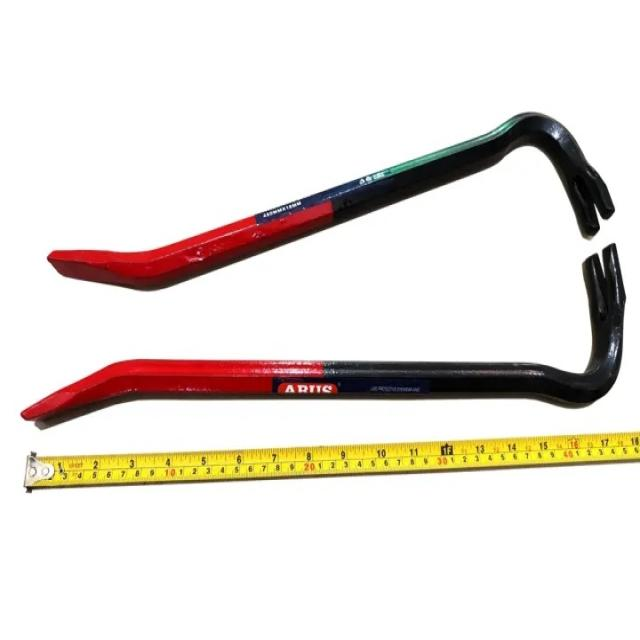Linggis: (19, 244, 628, 425)
